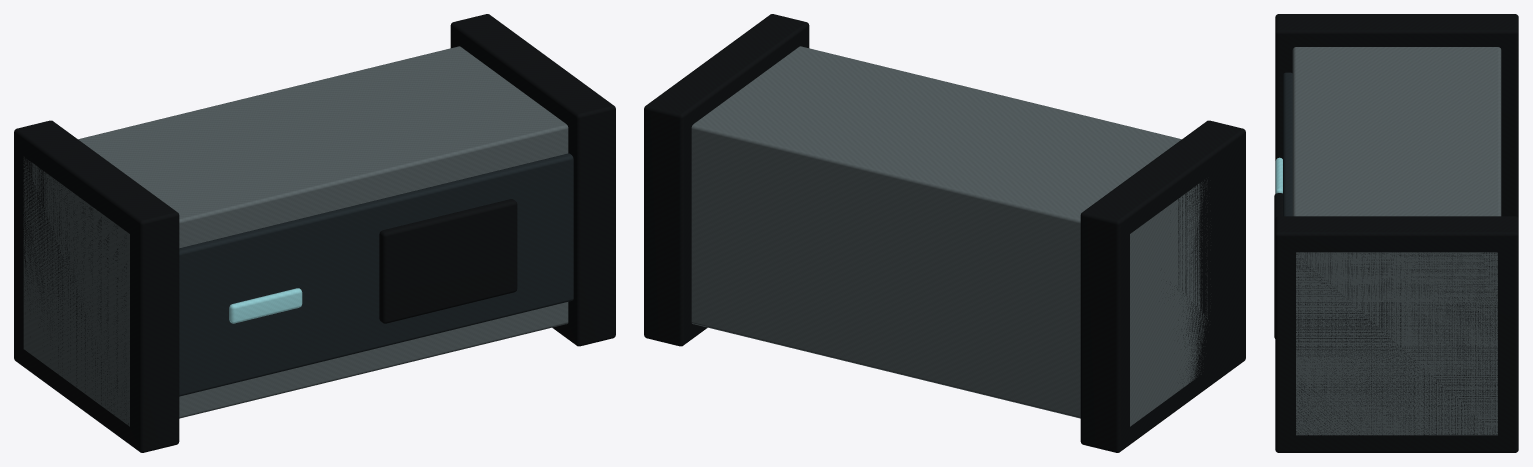
The model's file is VentilationDuct.glb.
The picture shows the model from 3 angles, left to right: view 1: azimuth 30°, elevation 25°; view 2: azimuth 150°, elevation 25°; view 3: azimuth 270°, elevation 25°; orthographic projection. The views are drawn at different scales.
Visible parts, largest first — view 1: VentilationDuct_Mesh; view 2: VentilationDuct_Mesh; view 3: VentilationDuct_Mesh.
Boxes of the visible parts, x1,y1,x2,y2 form: VentilationDuct_Mesh: (14,14,615,452); VentilationDuct_Mesh: (644,14,1245,452); VentilationDuct_Mesh: (1274,14,1518,452).
Size of the model in its own units: 1.2 by 0.56 by 0.5625.
Materials: 4 (4 with a texture image).
